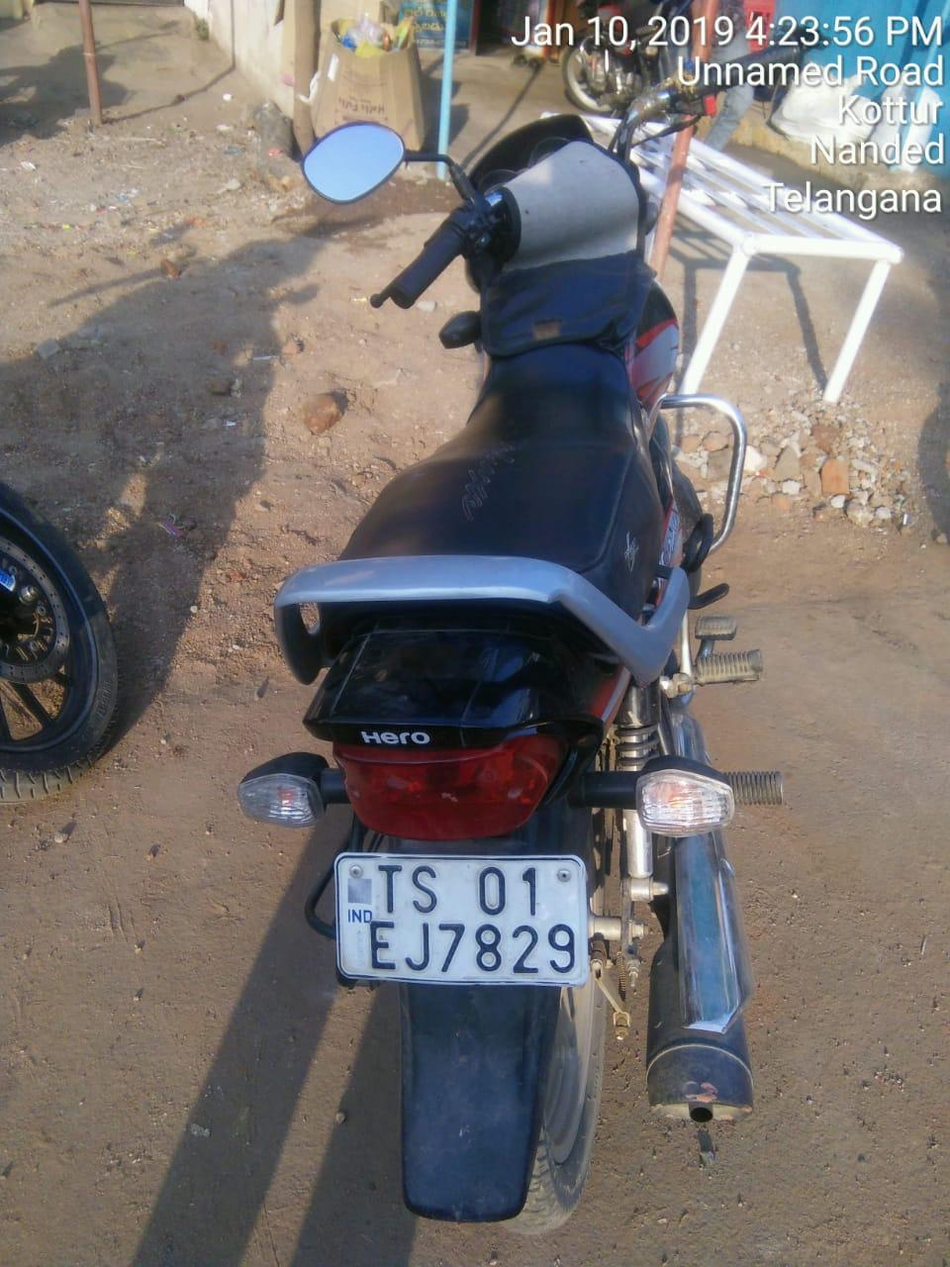plate: (325, 840, 597, 1009)
